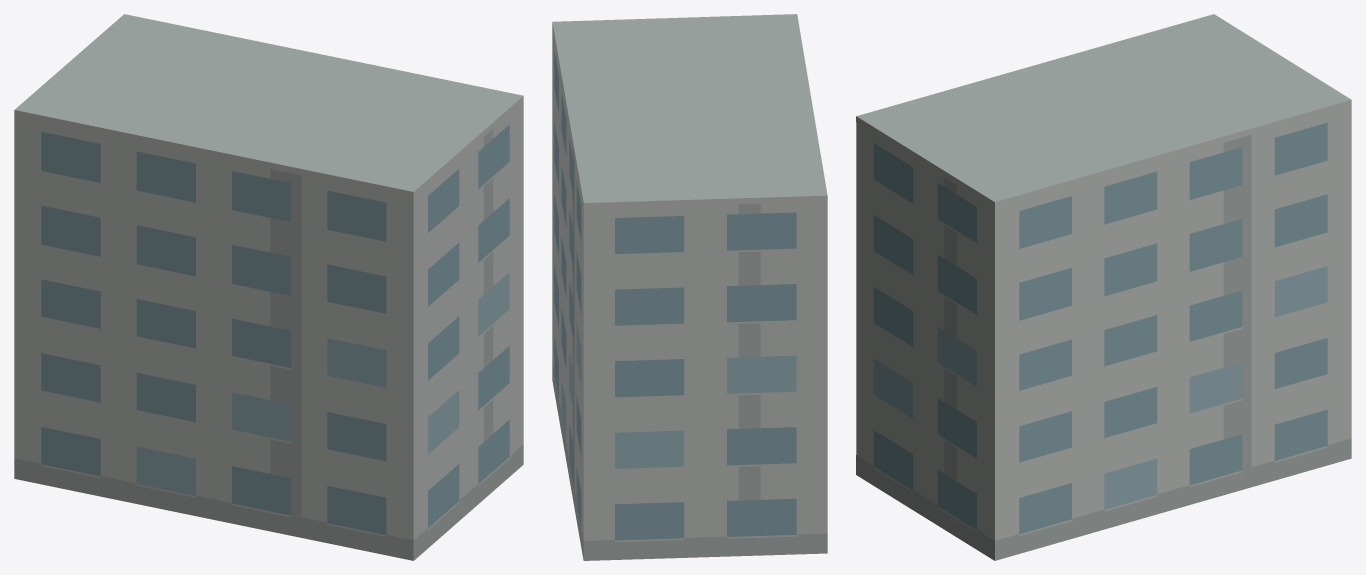
File: survey-upis-32730970.glb
The picture shows the model from 3 angles, left to right: view 1: azimuth 30°, elevation 25°; view 2: azimuth 150°, elevation 25°; view 3: azimuth 270°, elevation 25°; orthographic projection. The views are drawn at different scales.
Parts seen in each view (by area): view 1: survey-upis-32730970.tmp; view 2: survey-upis-32730970.tmp; view 3: survey-upis-32730970.tmp.
Boxes of the visible parts, x1,y1,x2,y2 form: survey-upis-32730970.tmp: (14, 14, 523, 560); survey-upis-32730970.tmp: (552, 14, 827, 560); survey-upis-32730970.tmp: (856, 14, 1351, 560).
Bounding box in the file's own units: 15.87 × 14.1 × 17.66.
